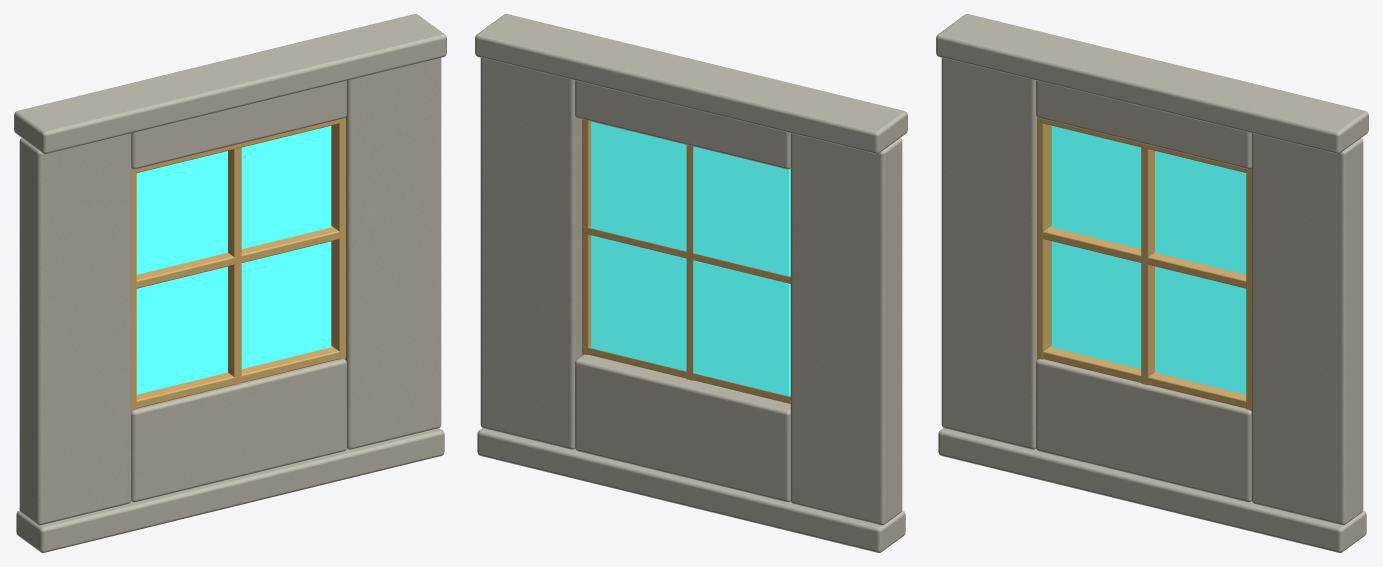
The model's file is arcane-academy-and-spell-trials-window-bay-bb11d0de__28271.glb.
3 renders of one model, left to right at view 1: azimuth 30°, elevation 25°; view 2: azimuth 150°, elevation 25°; view 3: azimuth 330°, elevation 25°, orthographic.
Parts seen in each view (by area): view 1: window-bay; view 2: window-bay; view 3: window-bay.
Part boxes in pixels (x1,y1,x2,y2): window-bay: [14, 14, 446, 552]; window-bay: [475, 14, 907, 552]; window-bay: [936, 14, 1368, 552].
Size of the model in its own units: 3 by 3 by 0.3999.
Materials: 3 (1 with a texture image).
